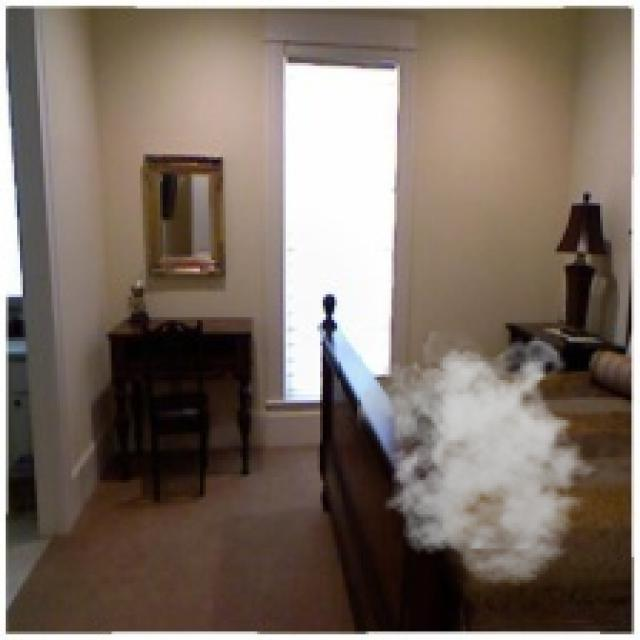Smoke: (357, 331, 609, 586)
